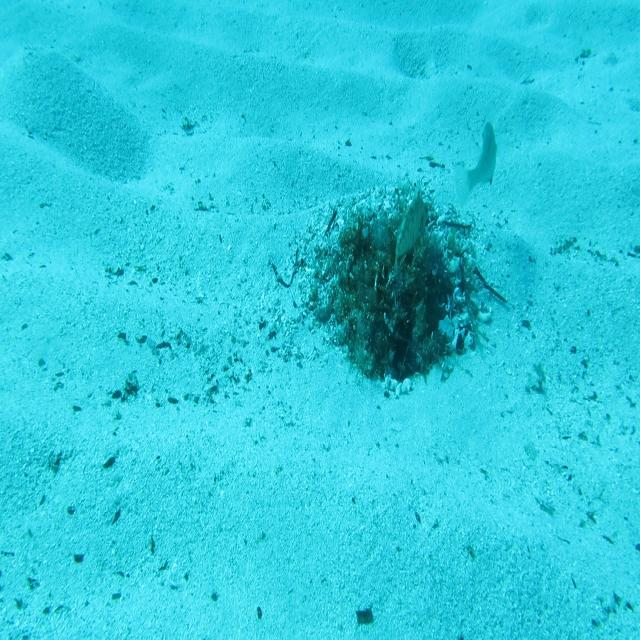LF: (389, 182, 429, 278)
core_nest: (365, 234, 406, 262)
female: (453, 117, 504, 211)
nest: (287, 166, 502, 412)
vegetation: (356, 606, 376, 626)
